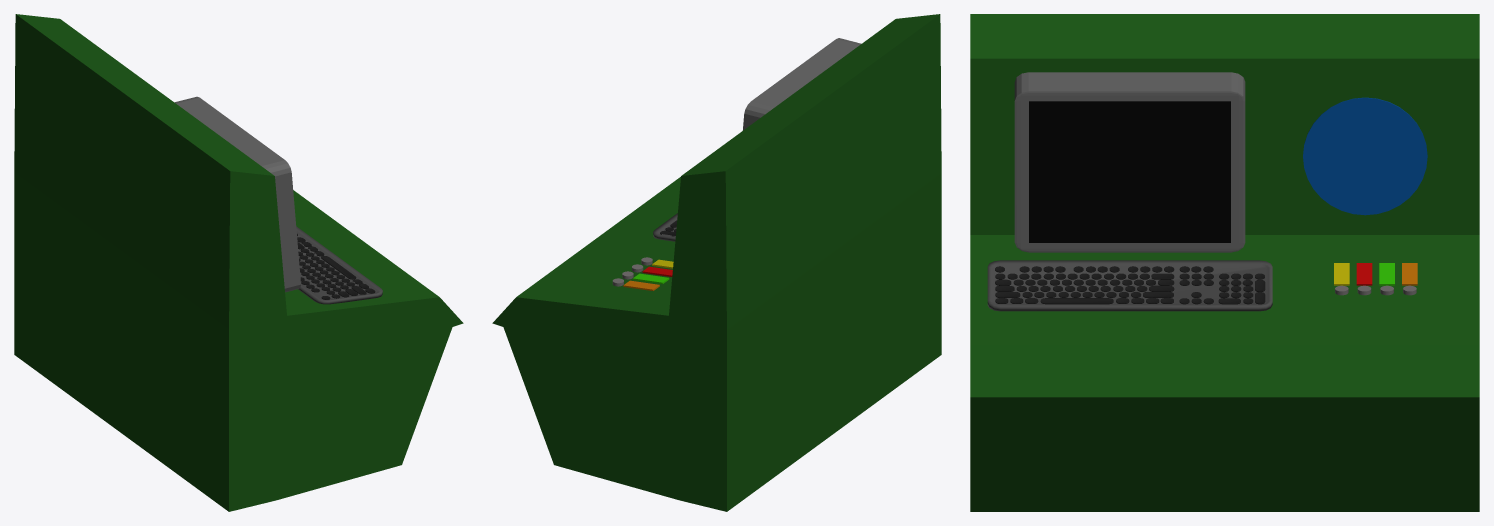
Rendered from ComputerRadar.fbx.
3 views of the same model, side by side, from view 1: azimuth 30°, elevation 25°; view 2: azimuth 150°, elevation 25°; view 3: azimuth 270°, elevation 25° (orthographic). The views are drawn at different scales.
Visible parts, largest first — view 1: Cube, Cube.002, Cube.007, Cube.008; view 2: Cube, Cube.002; view 3: Cube, Cube.001, Cube.002, Circle, Cube.008, Cube.007.
Boxes of the visible parts, left/top/right/bottom form: Cube: left=14, top=14, right=463, bottom=511; Cube.002: left=174, top=96, right=300, bottom=292; Cube.007: left=297, top=233, right=375, bottom=299; Cube.008: left=296, top=226, right=382, bottom=304; Cube: left=492, top=14, right=941, bottom=511; Cube.002: left=742, top=38, right=861, bottom=130; Cube: left=970, top=14, right=1479, bottom=511; Cube.001: left=1029, top=101, right=1230, bottom=242; Cube.002: left=1014, top=72, right=1245, bottom=252; Circle: left=1303, top=97, right=1427, bottom=215; Cube.008: left=987, top=260, right=1272, bottom=311; Cube.007: left=995, top=266, right=1265, bottom=304.
Bounding box in the file's own units: 170 × 236 × 269.
